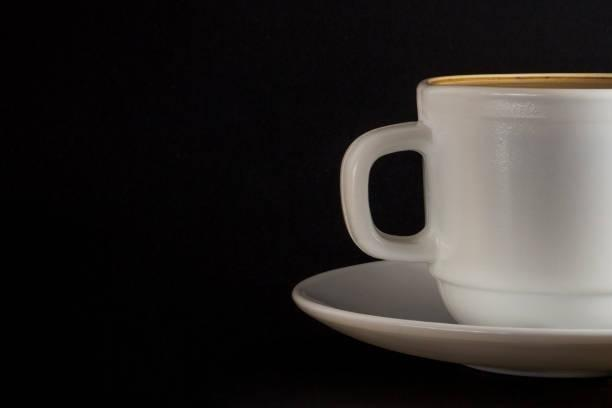cup-handle: (340, 70, 612, 329)
